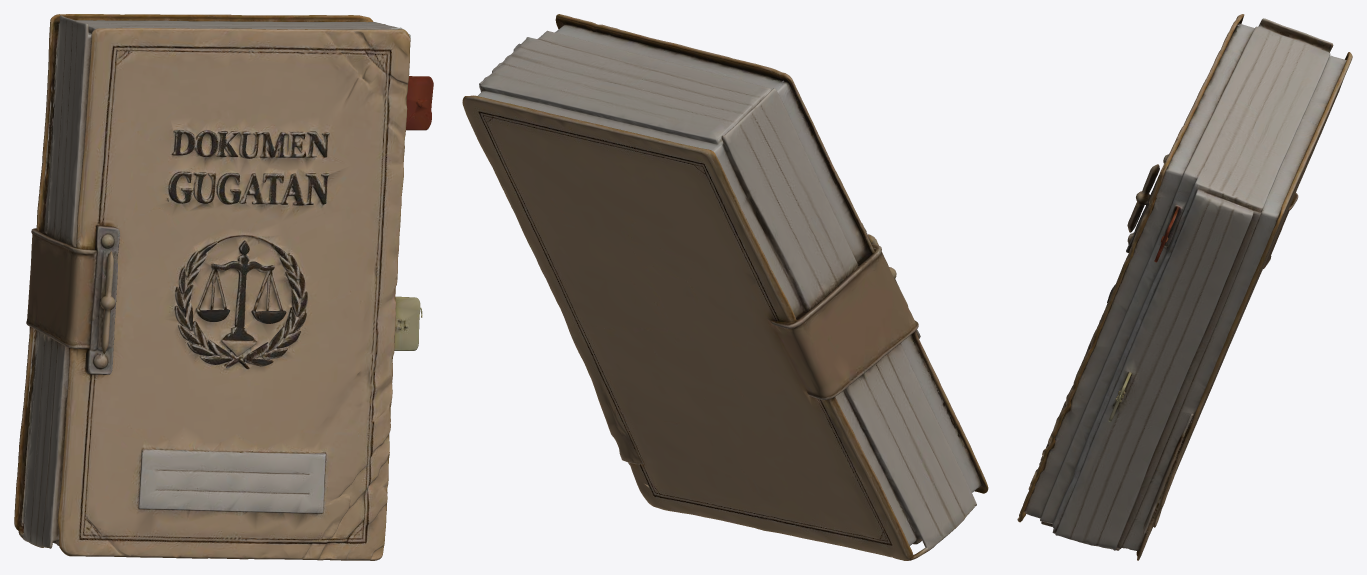
Rendered from tripo_convert_a503f07c-582e-436d-9e43-2f1d1d92e544.fbx.
The picture shows the model from 3 angles, left to right: view 1: azimuth 30°, elevation 25°; view 2: azimuth 150°, elevation 25°; view 3: azimuth 270°, elevation 25°; orthographic projection. The views are drawn at different scales.
Parts seen in each view (by area): view 1: tripo_node_a503f07c; view 2: tripo_node_a503f07c; view 3: tripo_node_a503f07c.
Part boxes in pixels (x1=…): tripo_node_a503f07c: x1=14, y1=14, x2=433, y2=560; tripo_node_a503f07c: x1=462, y1=14, x2=988, y2=560; tripo_node_a503f07c: x1=1017, y1=14, x2=1352, y2=560.
Bounding box in the file's own units: 85.21 × 65.52 × 100.
1 material, 1 textured.
